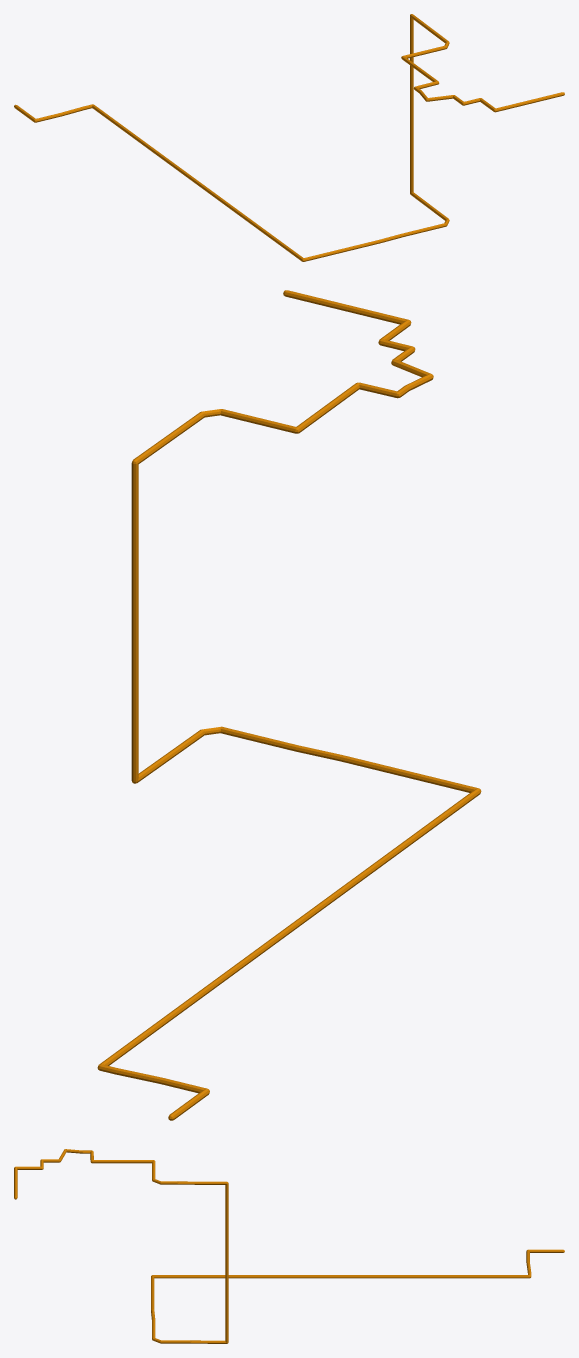
3 renders of one model, top to bottom at view 1: azimuth 30°, elevation 25°; view 2: azimuth 150°, elevation 25°; view 3: azimuth 270°, elevation 25°, orthographic. The views are drawn at different scales.
Bounding box in the file's own units: 1444 × 1020 × 3142.
